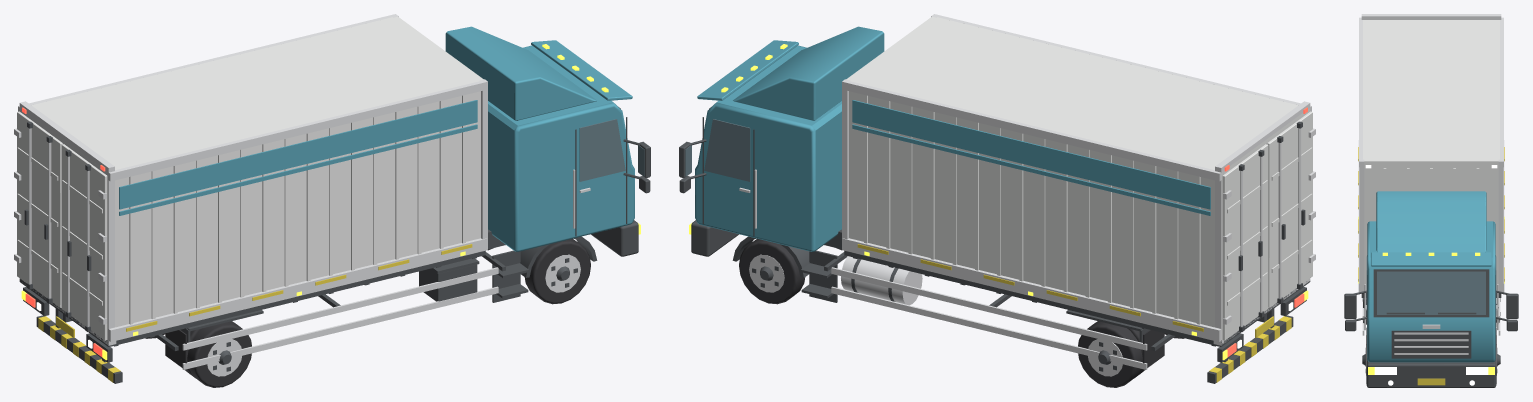
File: truck_20.glb
The picture shows the model from 3 angles, left to right: view 1: azimuth 30°, elevation 25°; view 2: azimuth 150°, elevation 25°; view 3: azimuth 270°, elevation 25°; orthographic projection. The views are drawn at different scales.
Visible parts, largest first — view 1: shell_node__shell, root__chrome, root__livery, shell_node__livery, root__chassis, opt_deflector__livery, door_r__shell, door_l__shell, root__glass, wheel_f_r__tyre, wheel_r0_r__tyre, opt_visor__livery (+10 smaller); view 2: shell_node__shell, root__chrome, root__livery, shell_node__livery, root__chassis, opt_deflector__livery, door_l__shell, door_r__shell, root__glass, wheel_f_l__tyre, wheel_r0_l__tyre, opt_visor__livery (+9 smaller); view 3: shell_node__shell, opt_deflector__livery, root__livery, root__chrome, root__glass, root__chassis, root__chassis.001, opt_visor__livery, root__chassis.002, root__lamp_white, root__hazard_yellow.
Part boxes in pixels (x1=…): shell_node__shell: x1=26, y1=16, x2=483, y2=336; root__chrome: x1=18, y1=14, x2=590, y2=369; root__livery: x1=488, y1=45, x2=634, y2=251; shell_node__livery: x1=119, y1=100, x2=477, y2=215; root__chassis: x1=19, y1=107, x2=640, y2=383; opt_deflector__livery: x1=445, y1=26, x2=596, y2=121; door_r__shell: x1=61, y1=144, x2=107, y2=340; door_l__shell: x1=17, y1=111, x2=62, y2=307; root__glass: x1=579, y1=119, x2=644, y2=181; wheel_f_r__tyre: x1=524, y1=238, x2=590, y2=304; wheel_r0_r__tyre: x1=185, y1=321, x2=251, y2=387; opt_visor__livery: x1=531, y1=40, x2=632, y2=100; shell_node__shell: x1=846, y1=16, x2=1310, y2=340; root__chrome: x1=739, y1=14, x2=1311, y2=369; root__livery: x1=695, y1=45, x2=841, y2=251; shell_node__livery: x1=852, y1=100, x2=1210, y2=215; root__chassis: x1=689, y1=107, x2=1310, y2=383; opt_deflector__livery: x1=733, y1=26, x2=884, y2=121; door_l__shell: x1=1222, y1=144, x2=1268, y2=340; door_r__shell: x1=1267, y1=111, x2=1312, y2=307; root__glass: x1=685, y1=119, x2=750, y2=181; wheel_f_l__tyre: x1=739, y1=238, x2=805, y2=304; wheel_r0_l__tyre: x1=1078, y1=321, x2=1144, y2=387; opt_visor__livery: x1=697, y1=40, x2=798, y2=100; shell_node__shell: x1=1363, y1=20, x2=1499, y2=292; opt_deflector__livery: x1=1376, y1=191, x2=1486, y2=252; root__livery: x1=1367, y1=221, x2=1495, y2=362; root__chrome: x1=1358, y1=14, x2=1504, y2=354; root__glass: x1=1366, y1=256, x2=1496, y2=315; root__chassis: x1=1354, y1=255, x2=1508, y2=358; root__chassis.001: x1=1366, y1=360, x2=1496, y2=387; opt_visor__livery: x1=1371, y1=252, x2=1491, y2=266; root__chassis.002: x1=1344, y1=293, x2=1518, y2=331; root__lamp_white: x1=1365, y1=165, x2=1497, y2=385; root__hazard_yellow: x1=1358, y1=147, x2=1504, y2=385.
Size of the model in its own units: 8.8 by 3.87 by 3.12.
